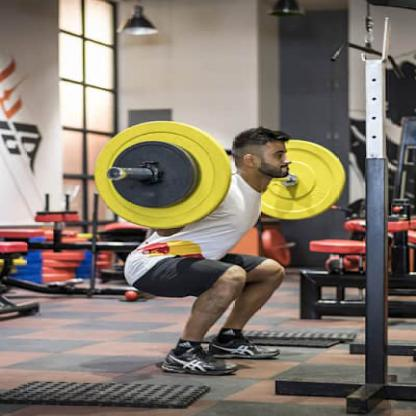Barbell: (90, 116, 238, 231)
